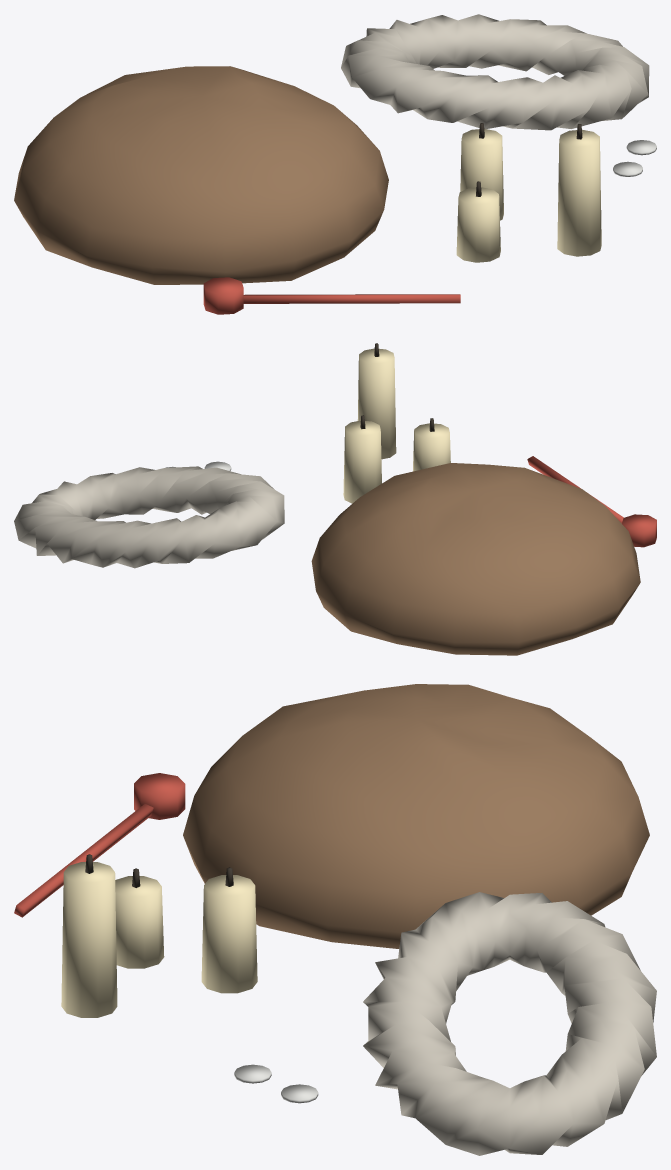
Rendered from hiis_offerings.glb.
3 views of the same model, one above another, from view 1: azimuth 30°, elevation 25°; view 2: azimuth 150°, elevation 25°; view 3: azimuth 270°, elevation 25° (orthographic). The views are drawn at different scales.
Parts seen in each view (by area): view 1: hiis_offerings; view 2: hiis_offerings; view 3: hiis_offerings.
Part boxes in pixels (bbox=[...]): hiis_offerings: bbox=[14, 14, 656, 314]; hiis_offerings: bbox=[14, 343, 656, 655]; hiis_offerings: bbox=[14, 684, 656, 1155].
Size of the model in its own units: 0.3916 by 0.0818 by 0.2753.
